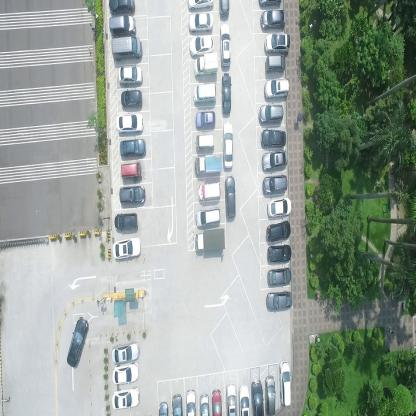car: (66, 315, 89, 367), (112, 233, 141, 260), (195, 226, 226, 251), (110, 340, 140, 365), (112, 36, 141, 61), (112, 384, 140, 409), (193, 52, 219, 78), (278, 358, 292, 406), (112, 361, 139, 385), (266, 219, 292, 243), (261, 148, 288, 171), (115, 112, 144, 133), (194, 153, 221, 175), (109, 15, 136, 37), (260, 8, 286, 30), (264, 33, 290, 55), (196, 205, 222, 227), (192, 82, 217, 104), (223, 120, 234, 170), (264, 76, 289, 98), (258, 102, 283, 124), (266, 265, 291, 287), (261, 172, 287, 193), (118, 66, 144, 87), (266, 289, 292, 310), (219, 22, 231, 67), (118, 185, 146, 204), (266, 194, 290, 216), (224, 174, 236, 218), (189, 34, 214, 55), (120, 138, 146, 158), (260, 128, 287, 147), (251, 378, 264, 416), (197, 182, 220, 203), (189, 12, 213, 32), (114, 210, 138, 230), (268, 243, 292, 262), (264, 53, 285, 73), (108, 0, 136, 15), (120, 161, 142, 180), (221, 72, 231, 113), (265, 375, 275, 415), (120, 90, 142, 108), (225, 382, 237, 415), (195, 110, 216, 128), (195, 133, 215, 150), (239, 382, 249, 415), (186, 0, 214, 11), (212, 389, 223, 415), (186, 387, 196, 415), (199, 392, 210, 416), (172, 392, 182, 416), (218, 0, 230, 19), (258, 0, 282, 8), (158, 400, 168, 416)
